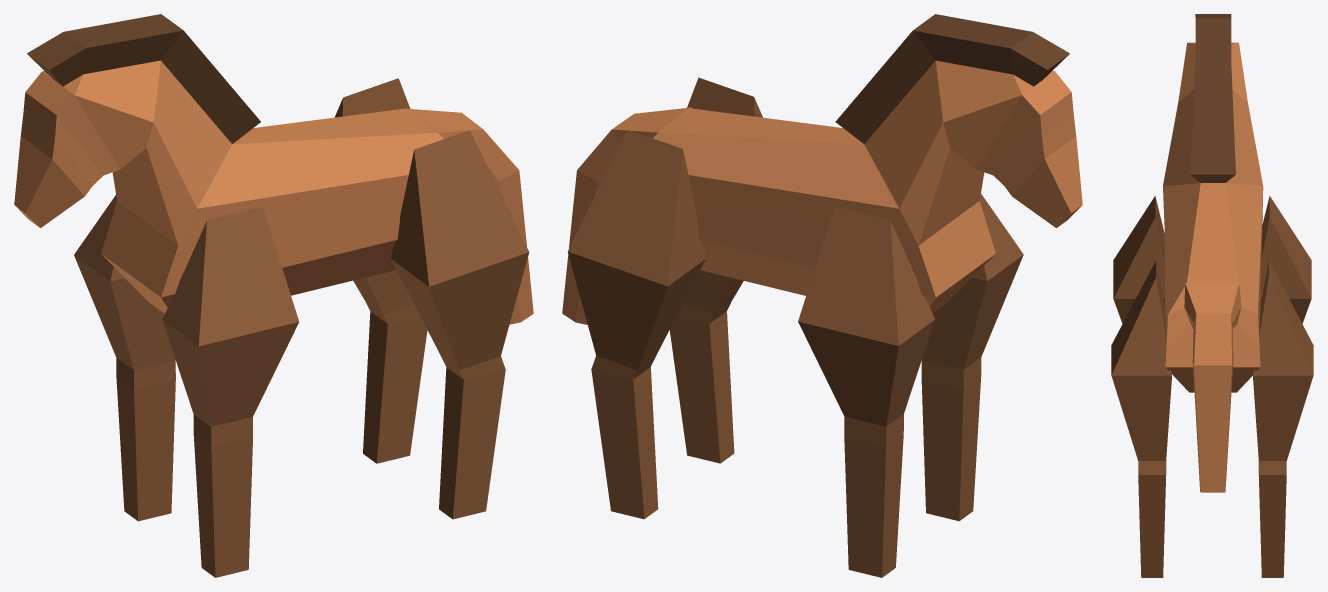
The model's file is pinata_full.fbx.
The picture shows the model from 3 angles, left to right: view 1: azimuth 30°, elevation 25°; view 2: azimuth 150°, elevation 25°; view 3: azimuth 270°, elevation 25°; orthographic projection. The views are drawn at different scales.
Parts seen in each view (by area): view 1: pinata_full; view 2: pinata_full; view 3: pinata_full.
Boxes of the visible parts, x1,y1,x2,y2 form: pinata_full: (14,14,533,577); pinata_full: (562,14,1082,577); pinata_full: (1111,14,1313,577).
Size of the model in its own units: 96.85 by 96.34 by 42.19.
1 material, 1 textured.
